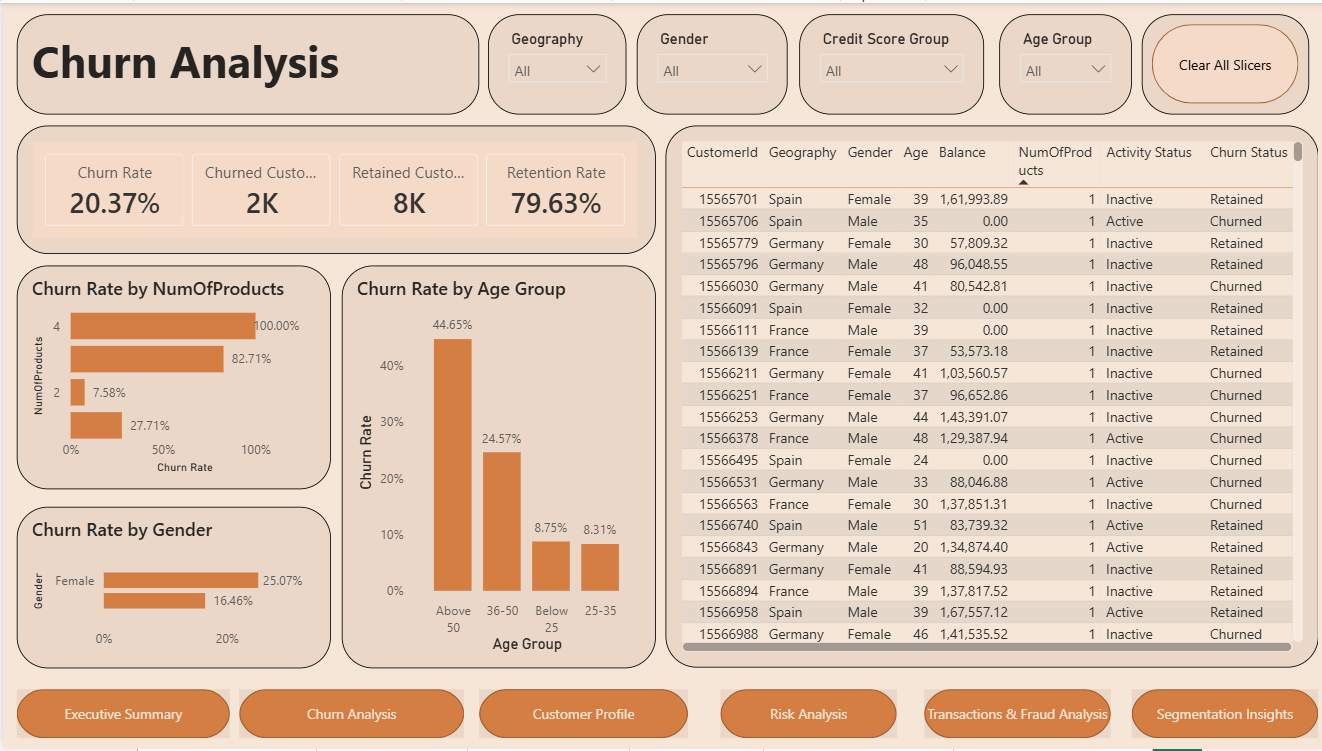

The dashboard page shown, as its layout file describes it:
{"tool":"powerbi","page":{"name":"Churn Analysis","canvas":[1280,720],"ordinal":1},"visuals":[{"type":"cardVisual","fields":{"Data":["customers.Churn Rate","customers.Churned Customers","customers.Retained Customers","customers.Retention Rate"]},"box":[12.9,118.6,617.1,124.3],"z":0},{"type":"barChart","fields":{"Category":["customers.Gender"],"Y":["customers.Churn Rate"]},"box":[12.9,485.7,302.9,155.7],"z":1000},{"type":"columnChart","fields":{"Category":["customers.Age Group"],"Y":["customers.Churn Rate"]},"box":[327.1,252.9,302.9,388.6],"z":2000},{"type":"clusteredBarChart","fields":{"Category":["customers.NumOfProducts"],"Y":["customers.Churn Rate"]},"box":[12.9,252.9,302.9,215.7],"z":3000},{"type":"tableEx","fields":{"Values":["customers.CustomerId","customers.Geography","customers.Gender","customers.Age","customers.Balance","customers.NumOfProducts","customers.Activity Status","customers.Churn Status"]},"box":[640,118.6,630,522.9],"z":4000},{"type":"slicer","fields":{"Values":["customers.Geography"]},"box":[468.1,10.9,133.9,96.5],"z":5000},{"type":"slicer","fields":{"Values":["customers.Gender"]},"box":[611.7,10.9,146,96.5],"z":6000},{"type":"slicer","fields":{"Values":["customers.Age Group"]},"box":[961.5,10.9,127.9,96.5],"z":7000},{"type":"slicer","fields":{"Values":["customers.Credit Score Group"]},"box":[768.5,10.9,178.6,96.5],"z":8000},{"type":"textbox","box":[13.3,10.9,446.4,96.5],"z":9000},{"type":"shape","box":[12.9,662.9,205.7,47.1],"z":10000},{"type":"shape","box":[228.6,662.9,217.1,47.1],"z":11000},{"type":"shape","box":[460,662.9,201.4,47.1],"z":12000},{"type":"shape","box":[692.9,662.9,170,47.1],"z":13000},{"type":"shape","box":[888.6,662.9,180,47.1],"z":14000},{"type":"shape","box":[1090,662.9,180,47.1],"z":15000},{"type":"shape","box":[1099.1,10.9,161.7,96.5],"z":15001}]}

Visuals, with their boxes in screenshot pixels (x1, y1, x2, y2), scaled from the page's 1280x720 canvas onto the 1322x751 screenshot:
cardVisual - customers.Churn Rate x customers.Churned Customers: {"left": 13, "top": 124, "right": 651, "bottom": 253}
barChart - customers.Gender x customers.Churn Rate: {"left": 13, "top": 507, "right": 326, "bottom": 669}
columnChart - customers.Age Group x customers.Churn Rate: {"left": 338, "top": 264, "right": 651, "bottom": 669}
clusteredBarChart - customers.NumOfProducts x customers.Churn Rate: {"left": 13, "top": 264, "right": 326, "bottom": 489}
tableEx - customers.CustomerId x customers.Geography: {"left": 661, "top": 124, "right": 1312, "bottom": 669}
slicer - customers.Geography: {"left": 483, "top": 11, "right": 622, "bottom": 112}
slicer - customers.Gender: {"left": 632, "top": 11, "right": 783, "bottom": 112}
slicer - customers.Age Group: {"left": 993, "top": 11, "right": 1125, "bottom": 112}
slicer - customers.Credit Score Group: {"left": 794, "top": 11, "right": 978, "bottom": 112}
textbox: {"left": 14, "top": 11, "right": 475, "bottom": 112}
shape: {"left": 13, "top": 691, "right": 226, "bottom": 741}
shape: {"left": 236, "top": 691, "right": 460, "bottom": 741}
shape: {"left": 475, "top": 691, "right": 683, "bottom": 741}
shape: {"left": 716, "top": 691, "right": 891, "bottom": 741}
shape: {"left": 918, "top": 691, "right": 1104, "bottom": 741}
shape: {"left": 1126, "top": 691, "right": 1312, "bottom": 741}
shape: {"left": 1135, "top": 11, "right": 1302, "bottom": 112}
